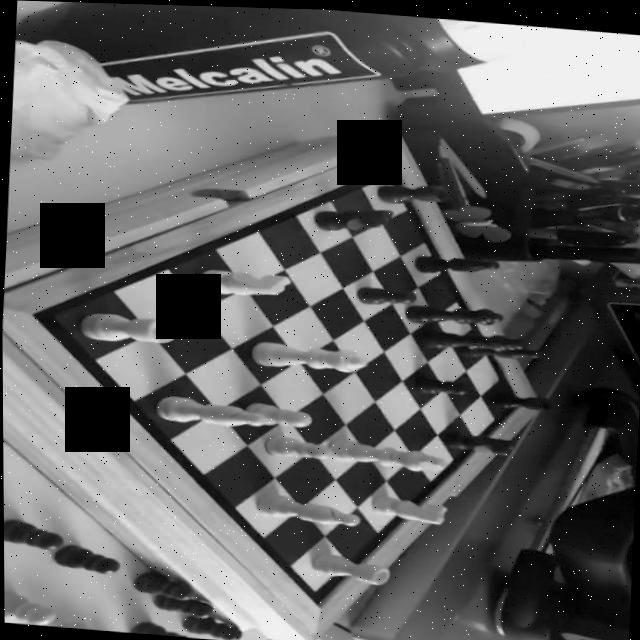chess-table-corners: (21, 305, 46, 324), (311, 595, 334, 615), (512, 394, 528, 408), (384, 159, 400, 170)
